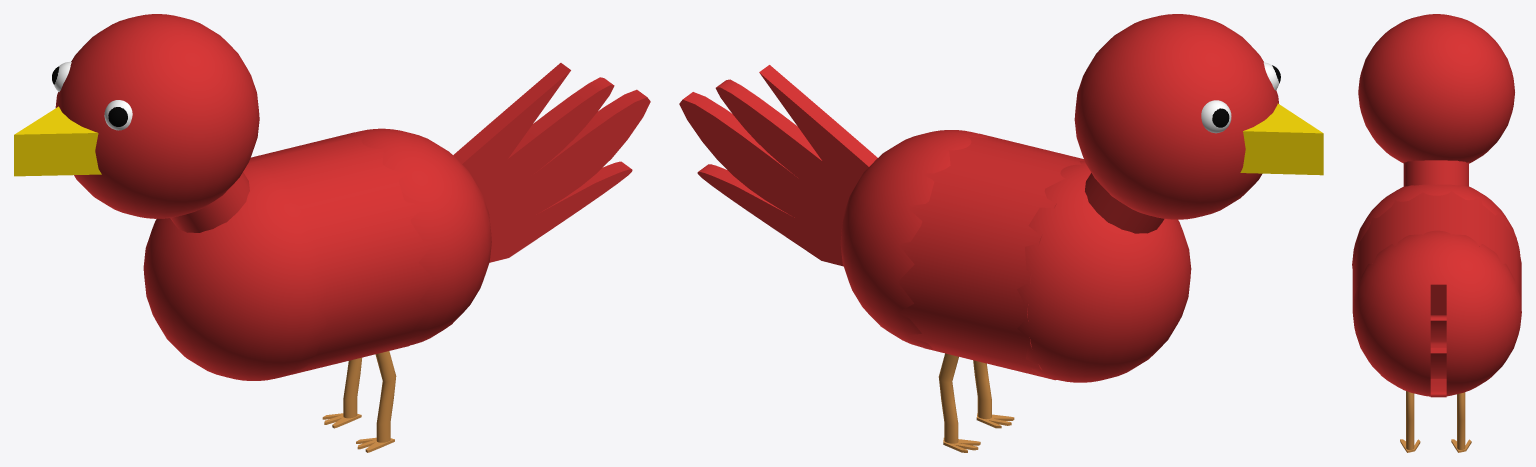
The model's file is Redbird.FBX.
3 views of the same model, side by side, from view 1: azimuth 30°, elevation 25°; view 2: azimuth 150°, elevation 25°; view 3: azimuth 270°, elevation 25° (orthographic). The views are drawn at different scales.
Parts seen in each view (by area): view 1: Sphere001, Sphere002, Cylinder001, Line003, Sphere003, Prism001, Cylinder002, Cylinder005, Cylinder006; view 2: Sphere001, Cylinder001, Sphere002, Line003, Sphere003, Prism001, Cylinder002, Cylinder006, Cylinder005; view 3: Sphere003, Sphere001, Cylinder001, Sphere002, Line003, Cylinder002, Cylinder005, Cylinder006.
Boxes of the visible parts, box(x1,y1,x2,y2) form: Sphere001: box(55, 14, 259, 218); Sphere002: box(143, 160, 326, 380); Cylinder001: box(248, 132, 434, 375); Line003: box(453, 63, 650, 262); Sphere003: box(345, 128, 491, 347); Prism001: box(14, 106, 101, 176); Cylinder002: box(170, 172, 249, 232); Cylinder005: box(375, 351, 396, 442); Cylinder006: box(343, 357, 361, 418); Sphere001: box(1074, 14, 1278, 219); Cylinder001: box(898, 133, 1084, 380); Sphere002: box(1017, 161, 1191, 382); Line003: box(679, 65, 877, 266); Sphere003: box(840, 130, 987, 349); Prism001: box(1240, 103, 1323, 175); Cylinder002: box(1085, 173, 1164, 233); Cylinder006: box(938, 353, 958, 443); Cylinder005: box(973, 360, 991, 419); Sphere003: box(1352, 230, 1521, 396); Sphere001: box(1358, 14, 1514, 163); Cylinder001: box(1352, 190, 1521, 310); Sphere002: box(1352, 184, 1520, 268); Line003: box(1430, 284, 1446, 397); Cylinder002: box(1403, 160, 1468, 186); Cylinder005: box(1406, 391, 1414, 449); Cylinder006: box(1457, 392, 1465, 449).
Bounding box in the file's own units: 279 × 193 × 84.7.
